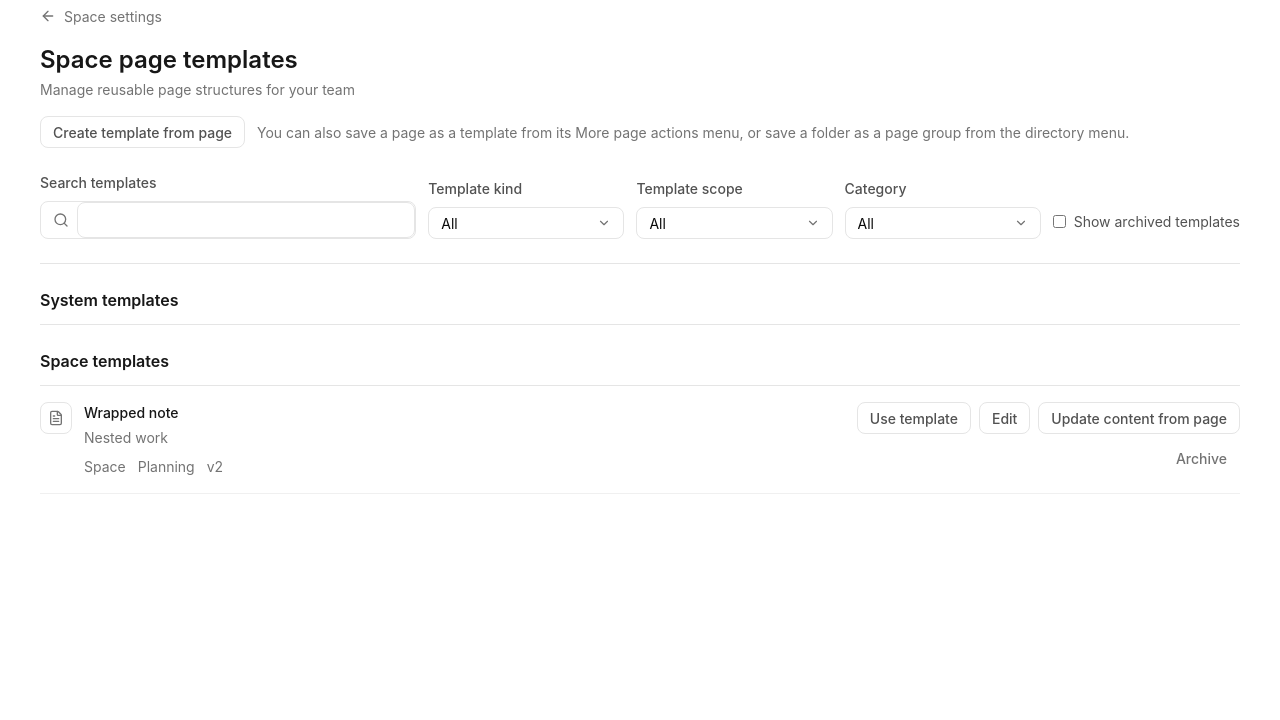
Test: PageTemplateManager composite catalog › keeps wrapped legacy single pages on their source-Page management route with unified catalog enabled
Click the button with aria-label "Update content from page Wrapped note".
click(1139, 418)  # box [1038,402,1240,434]
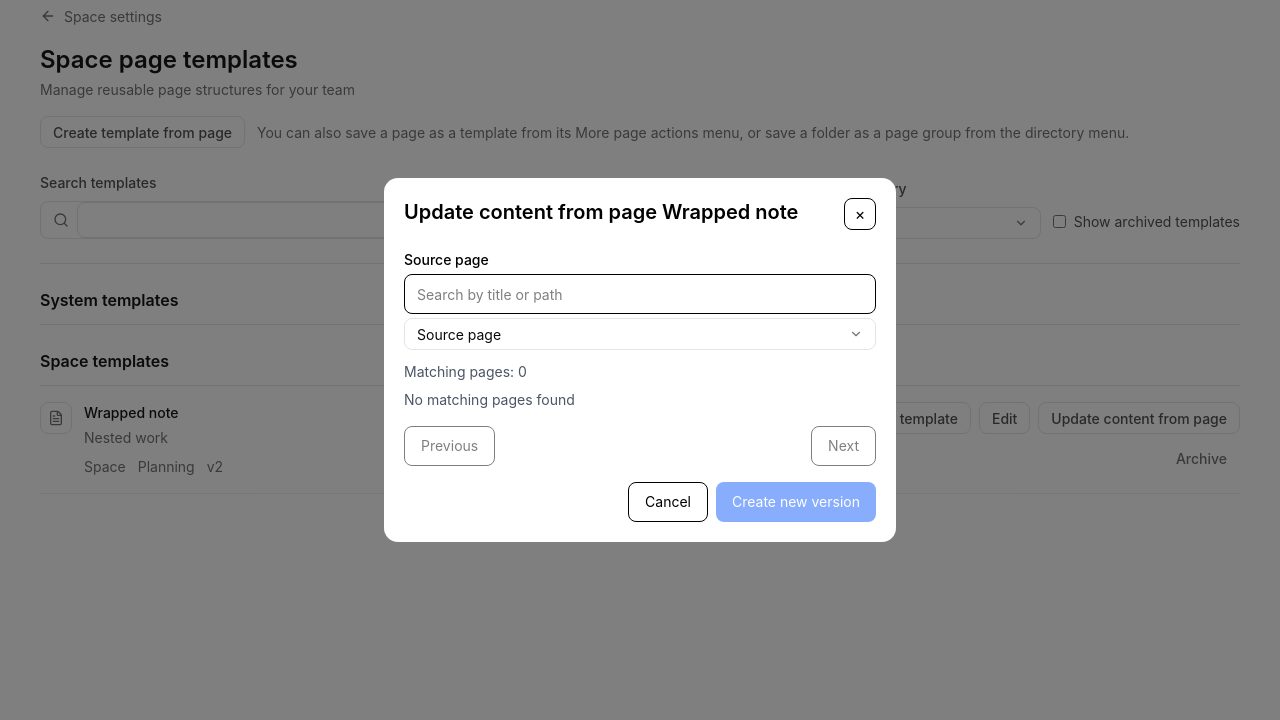
Result: the dropdown named "Source page" is shown at [404,318,876,350]
